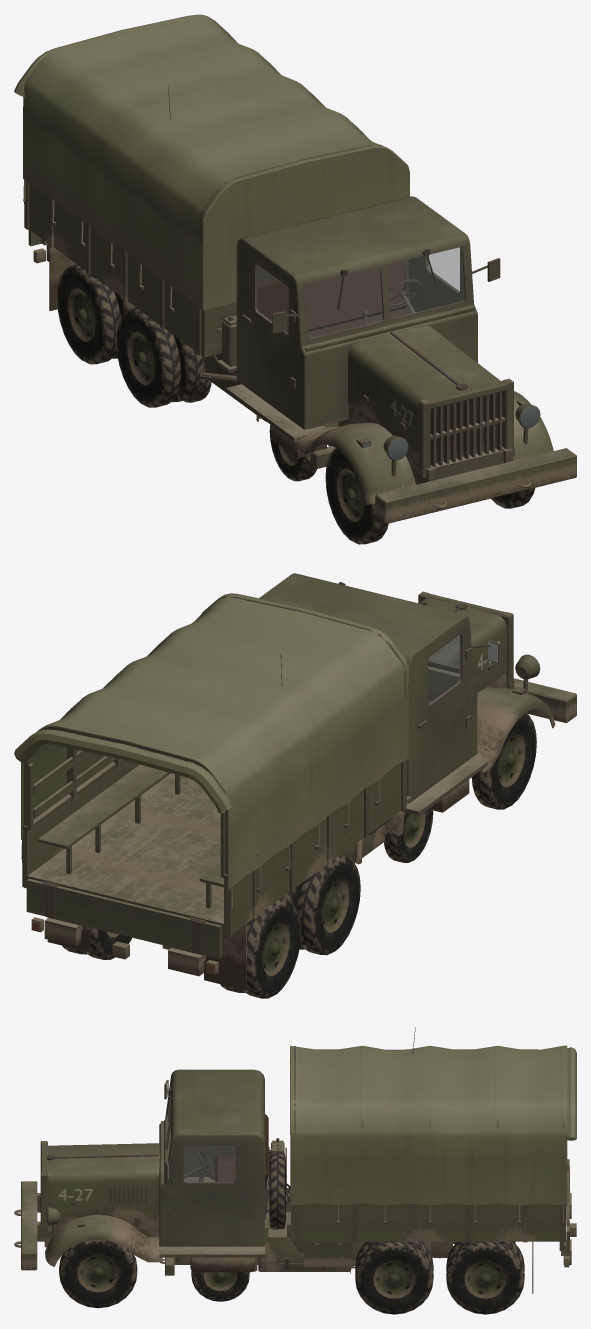
The model's file is vehicles.glb.
The picture shows the model from 3 angles, top to bottom: view 1: azimuth 30°, elevation 25°; view 2: azimuth 150°, elevation 25°; view 3: azimuth 270°, elevation 25°; orthographic projection. The views are drawn at different scales.
Parts seen in each view (by area): view 1: canvas, body (×2), engine, bed, cab.glass, wheel.4, wheel.6, wheel.2 (×2); view 2: canvas, bed, body (×2), wheel.2 (×2), wheel.4, wheel.6, engine, cab.glass, wheel.5; view 3: canvas, body (×2), bed, engine, wheel.1 (×2), wheel.5, wheel.3, cab.glass.
Boxes of the visible parts, <box> form: canvas: <box>14,14,409,310</box>; body (×2): <box>33,86,576,523</box>; engine: <box>348,326,514,478</box>; bed: <box>24,27,383,357</box>; cab.glass: <box>256,247,464,338</box>; wheel.4: <box>116,307,203,407</box>; wheel.6: <box>57,264,135,364</box>; wheel.2 (×2): <box>269,424,388,544</box>; canvas: <box>14,593,409,910</box>; bed: <box>22,596,406,958</box>; body (×2): <box>31,573,576,990</box>; wheel.2 (×2): <box>384,713,536,862</box>; wheel.4: <box>282,854,360,955</box>; wheel.6: <box>220,898,301,998</box>; engine: <box>418,591,514,692</box>; cab.glass: <box>428,635,460,704</box>; wheel.5: <box>62,929,131,959</box>; canvas: <box>290,1045,576,1222</box>; body (×2): <box>14,1027,576,1293</box>; bed: <box>291,1046,569,1255</box>; engine: <box>40,1141,159,1232</box>; wheel.1 (×2): <box>59,1240,249,1308</box>; wheel.5: <box>446,1241,524,1314</box>; wheel.3: <box>355,1241,433,1314</box>; cab.glass: <box>167,1094,235,1182</box>.
Size of the model in its own units: 2.48 by 3.12 by 6.92.
4 materials, 2 textured.
